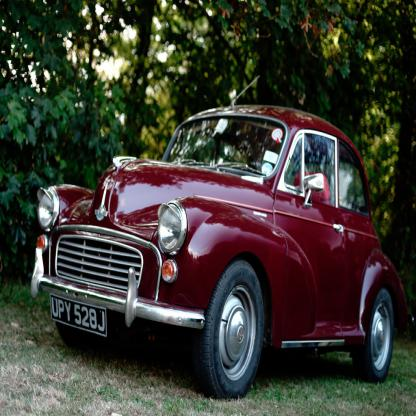Car: (29, 74, 414, 401)
